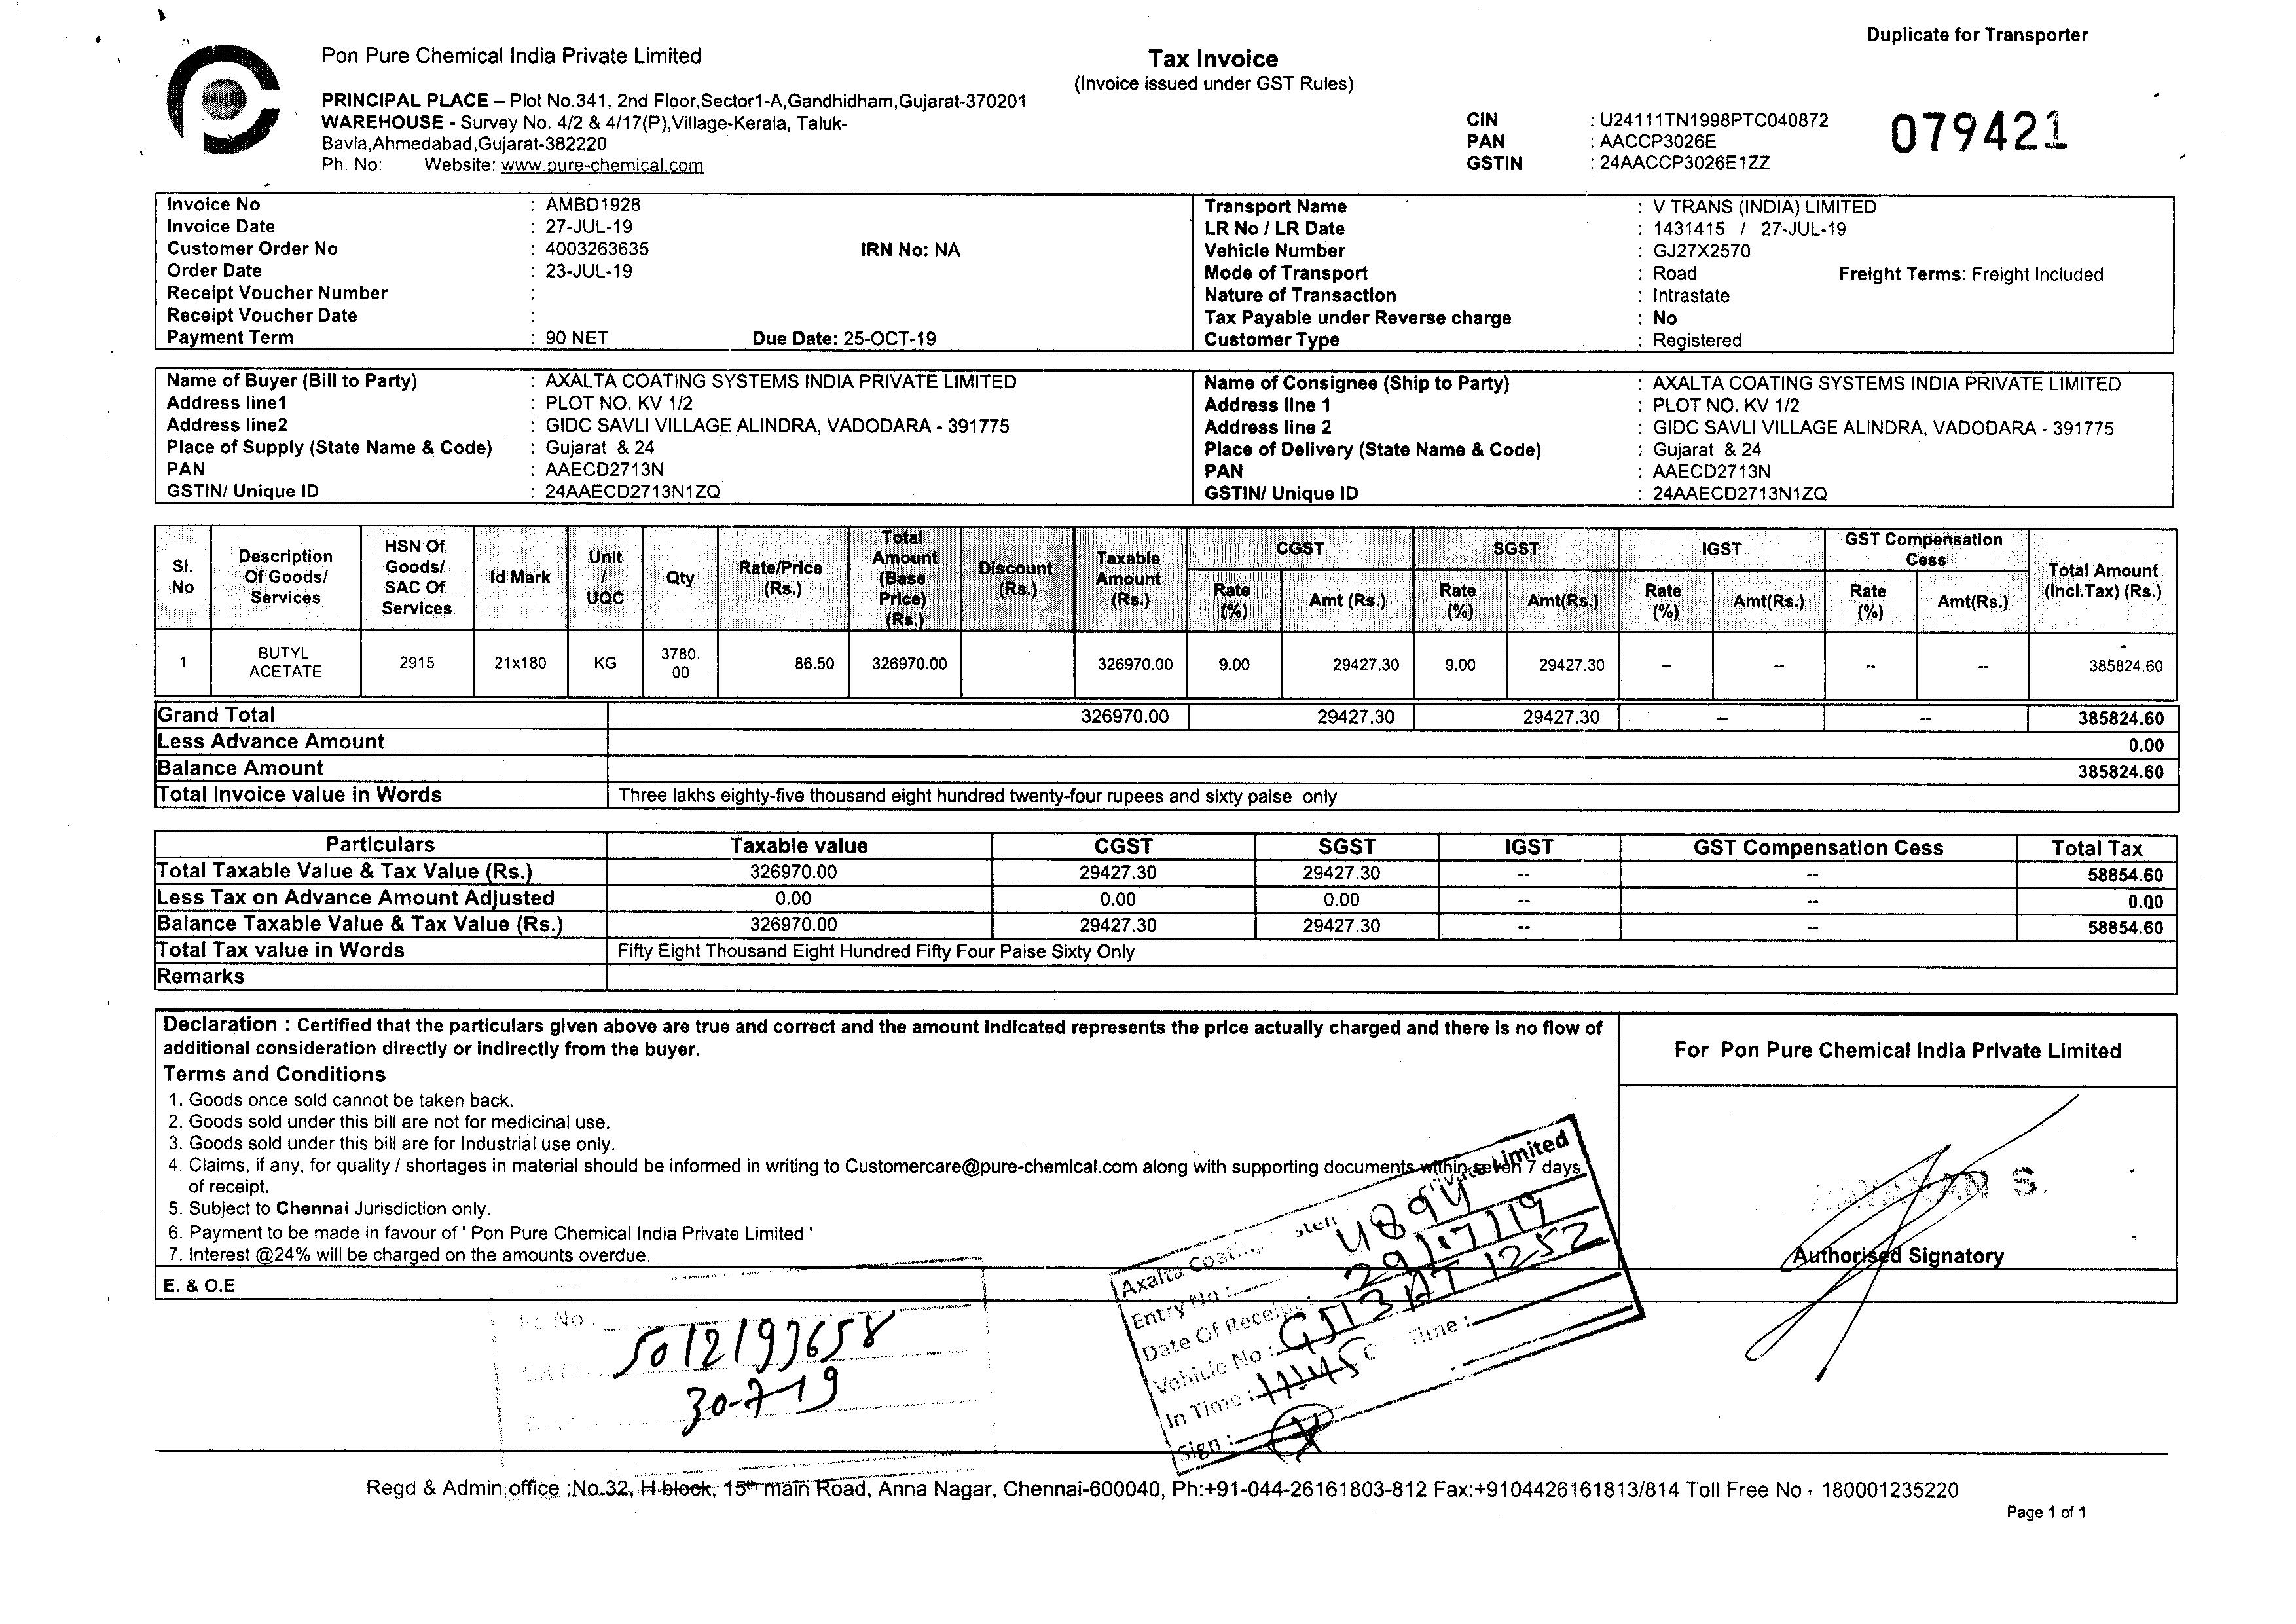B_Paragraph: (160, 1086, 1585, 1262), (1198, 367, 2129, 517), (158, 371, 1040, 503), (162, 192, 653, 350), (160, 1009, 1616, 1058), (325, 88, 1036, 176), (1196, 193, 1880, 264), (367, 1473, 1964, 1503), (1455, 90, 1836, 185), (1657, 1026, 2126, 1077), (1885, 107, 2087, 162), (1792, 1236, 2022, 1276), (1853, 18, 2099, 54), (1077, 74, 1360, 105), (1830, 264, 2108, 290), (736, 320, 945, 344), (843, 228, 968, 269), (2004, 1494, 2090, 1531), (160, 1269, 241, 1302)
B_SubTitle: (160, 1055, 395, 1086)
B_Table: (158, 526, 2175, 812), (155, 830, 2178, 993)
B_Title: (311, 35, 708, 69), (1149, 35, 1282, 72)
I_Paragraph: (1198, 265, 1765, 344)
